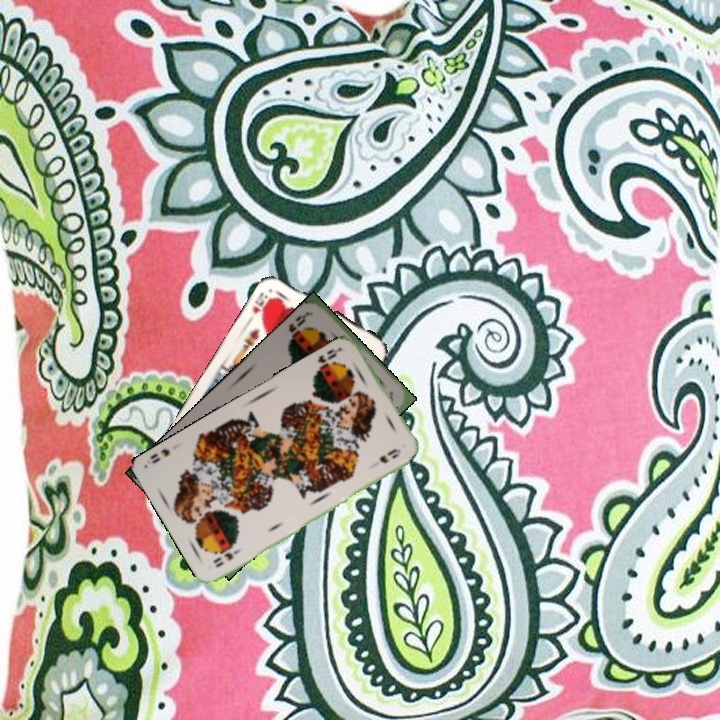HK: (248, 288, 276, 319)
SO: (284, 308, 314, 346), (311, 344, 343, 376), (209, 545, 243, 570)
